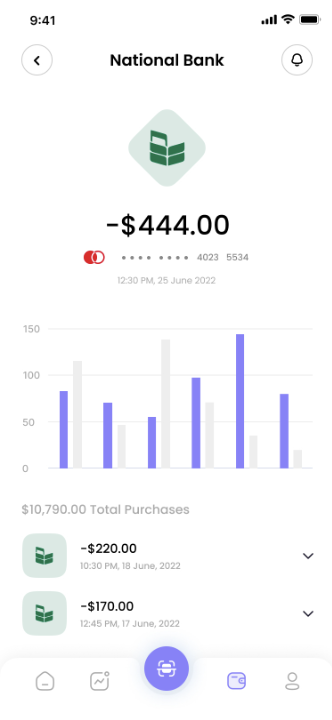BottomBar: (1, 641, 332, 720)
